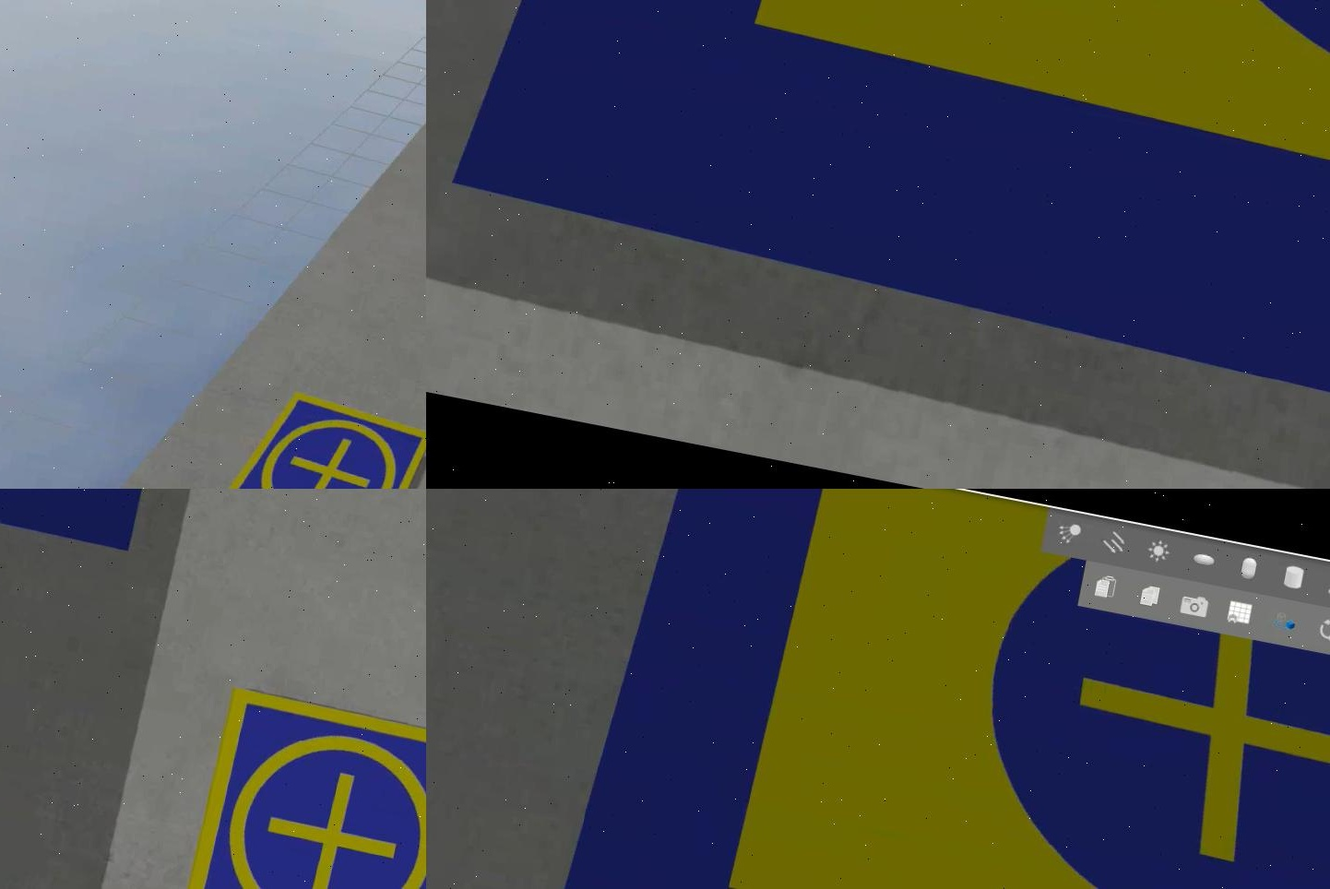large_base: (440, 1, 1328, 447), (522, 490, 1328, 889)
small_base: (174, 683, 425, 889), (207, 384, 425, 490)
